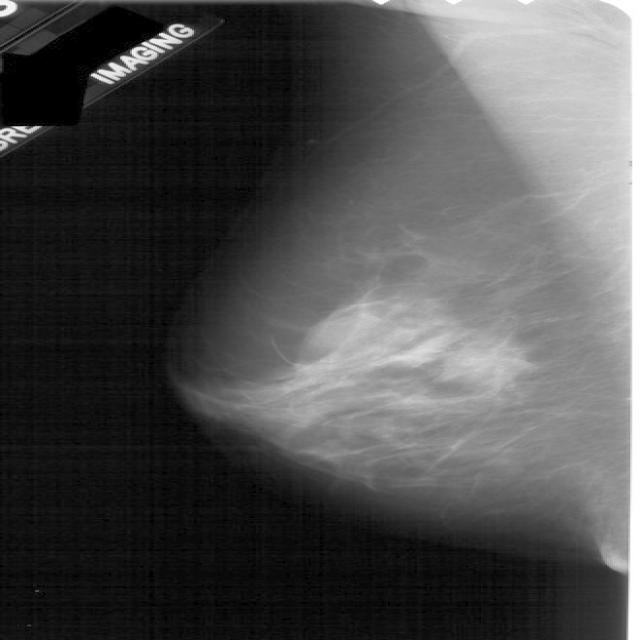tumour: (314, 311, 392, 354)
